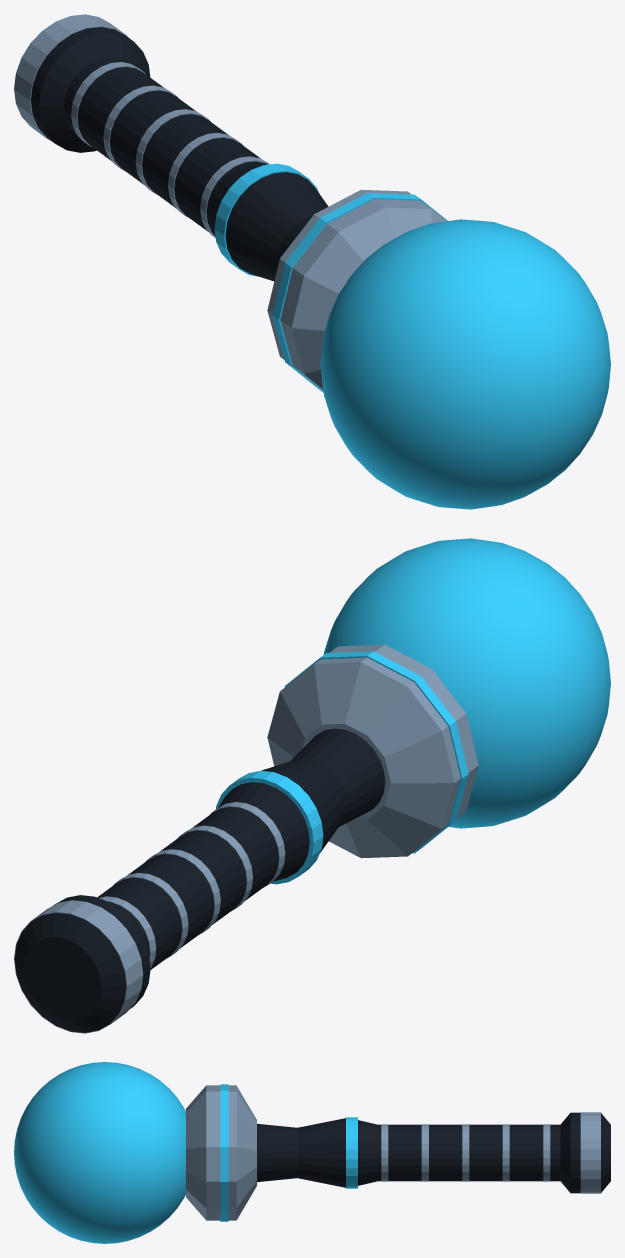
File: SM_StellarDisassembly.obj
3 views of the same model, one above another, from view 1: azimuth 30°, elevation 25°; view 2: azimuth 150°, elevation 25°; view 3: azimuth 270°, elevation 25° (orthographic). The views are drawn at different scales.
Visible parts, largest first — view 1: SM_StellarDisassembly; view 2: SM_StellarDisassembly; view 3: SM_StellarDisassembly.
Boxes of the visible parts, x1=… form: SM_StellarDisassembly: x1=14, y1=14, x2=610, y2=509; SM_StellarDisassembly: x1=14, y1=538, x2=610, y2=1033; SM_StellarDisassembly: x1=14, y1=1062, x2=610, y2=1243.
Bounding box in the file's own units: 18 × 18 × 59.
